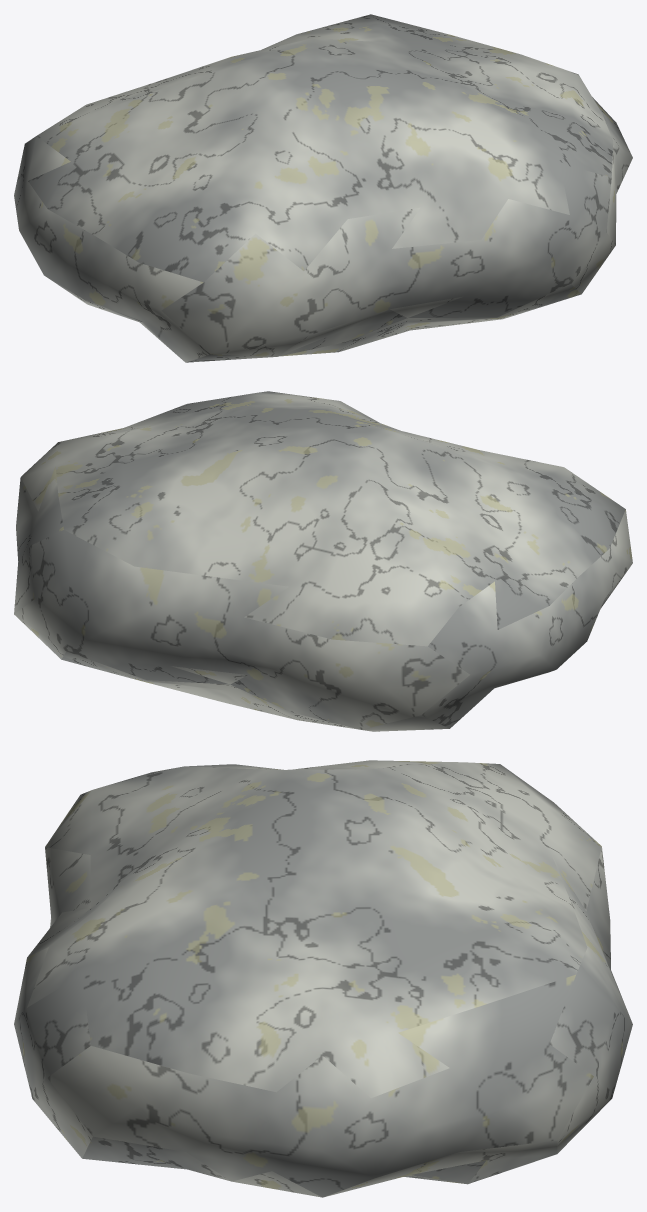
Rendered from rock2.glb.
The picture shows the model from 3 angles, top to bottom: view 1: azimuth 30°, elevation 25°; view 2: azimuth 150°, elevation 25°; view 3: azimuth 270°, elevation 25°; orthographic projection. The views are drawn at different scales.
Visible parts, largest first — view 1: rock2; view 2: rock2; view 3: rock2.
Part boxes in pixels (x1,y1,x2,y2): rock2: (14,14,632,362); rock2: (14,391,632,731); rock2: (14,760,632,1197).
Size of the model in its own units: 1.44 by 0.6721 by 1.1.
Materials: 1 (1 with a texture image).
